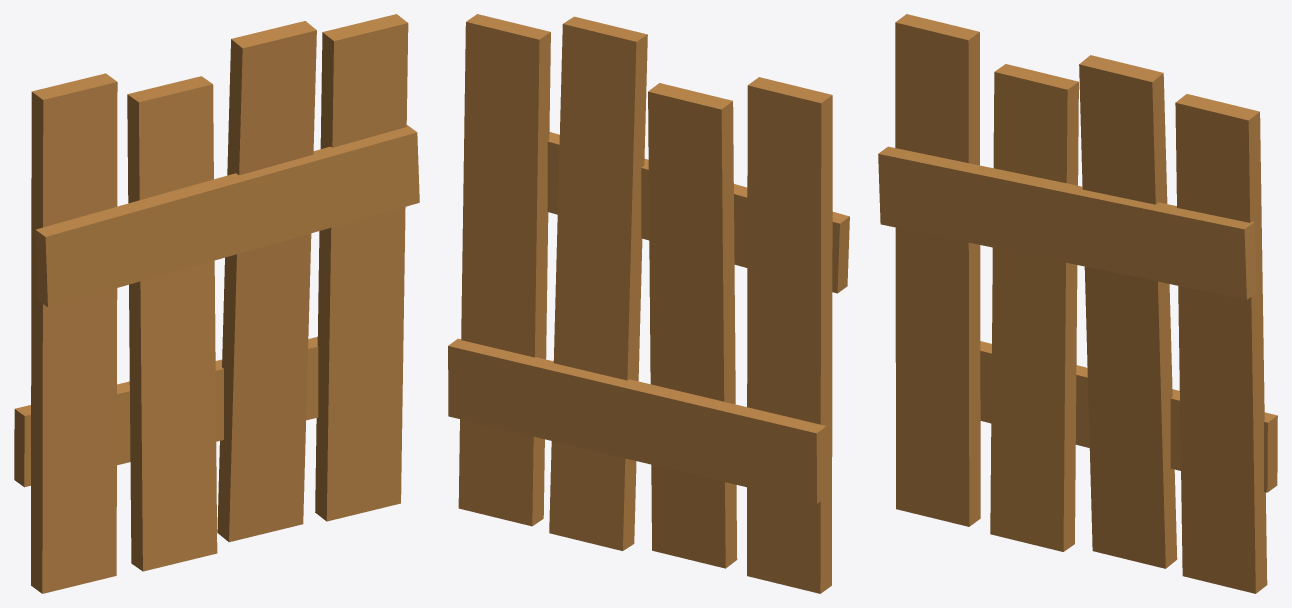
File: забор3.fbx
3 renders of one model, left to right at view 1: azimuth 30°, elevation 25°; view 2: azimuth 150°, elevation 25°; view 3: azimuth 330°, elevation 25°, orthographic.
Visible parts, largest first — view 1: Cube; view 2: Cube; view 3: Cube.
Boxes of the visible parts, x1,y1,x2,y2 form: Cube: (14, 14, 419, 593); Cube: (448, 14, 849, 593); Cube: (878, 14, 1277, 593).
Bounding box in the file's own units: 91.78 × 118 × 13.7.
